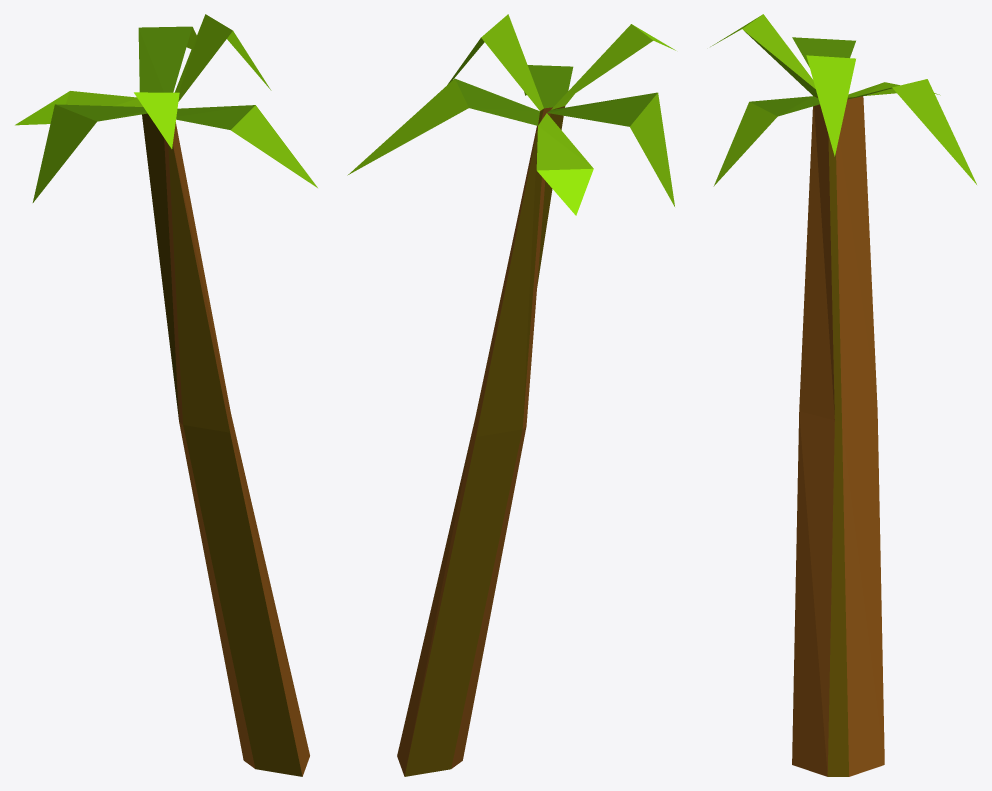
The model's file is palm.obj.
The picture shows the model from 3 angles, left to right: view 1: azimuth 30°, elevation 25°; view 2: azimuth 150°, elevation 25°; view 3: azimuth 270°, elevation 25°; orthographic projection. The views are drawn at different scales.
Size of the model in its own units: 80 by 211 by 76.
